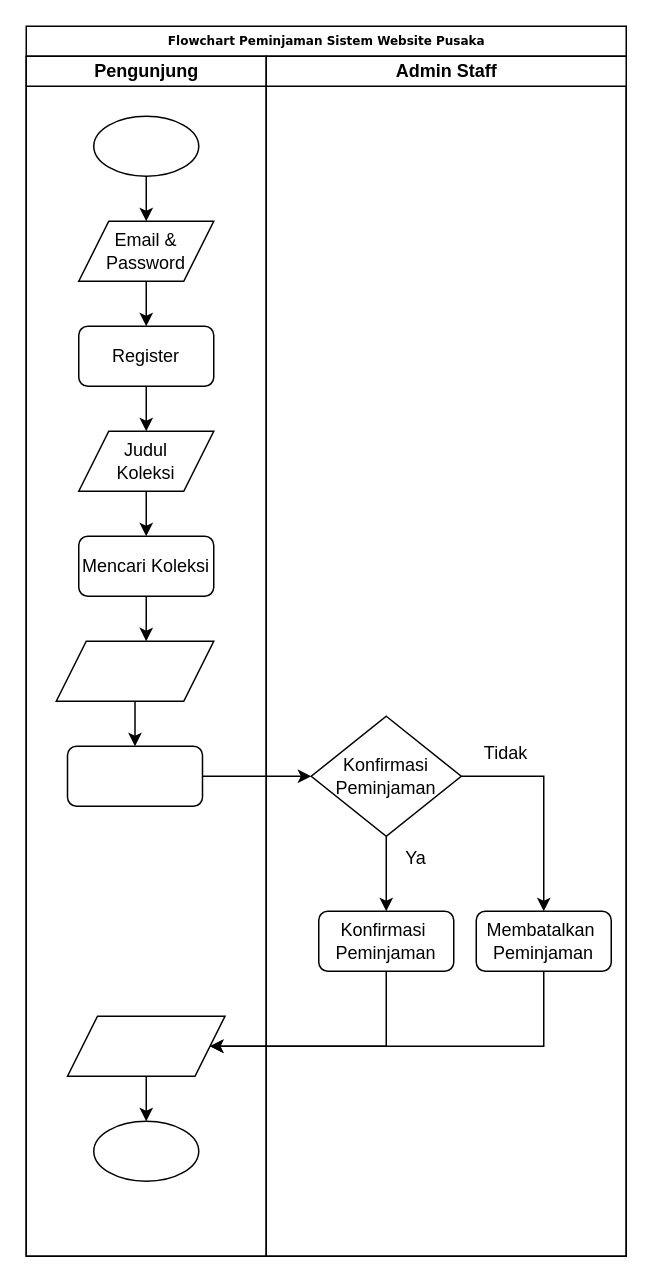
This 653x1283 diagram has some shape labels left out. The shapes that lost their labels are listed below. From the top down, each one's centre as x and y in pixels, then its label:
At [145,145]: "Mulai".
At [134,670]: "Data Peminjaman".
At [134,775]: "Membuat Peminjaman".
At [145,1045]: "Status Peminjaman".
At [145,1150]: "Selesai".
